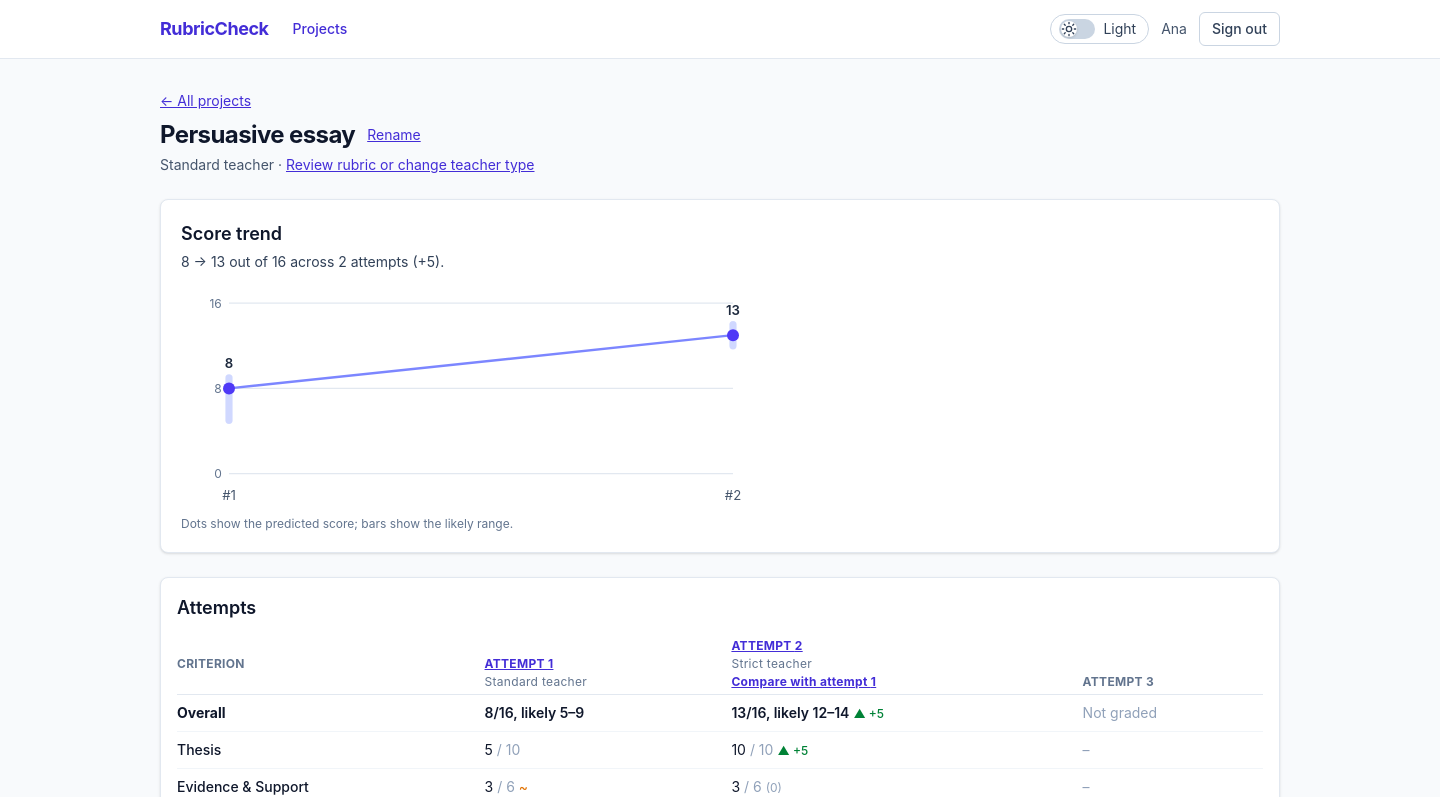
Test: a project page › does nothing when the name is unchanged, and Cancel keeps the old name
Click the button "Rename". click: (394, 135)
box: [367,125,421,145]
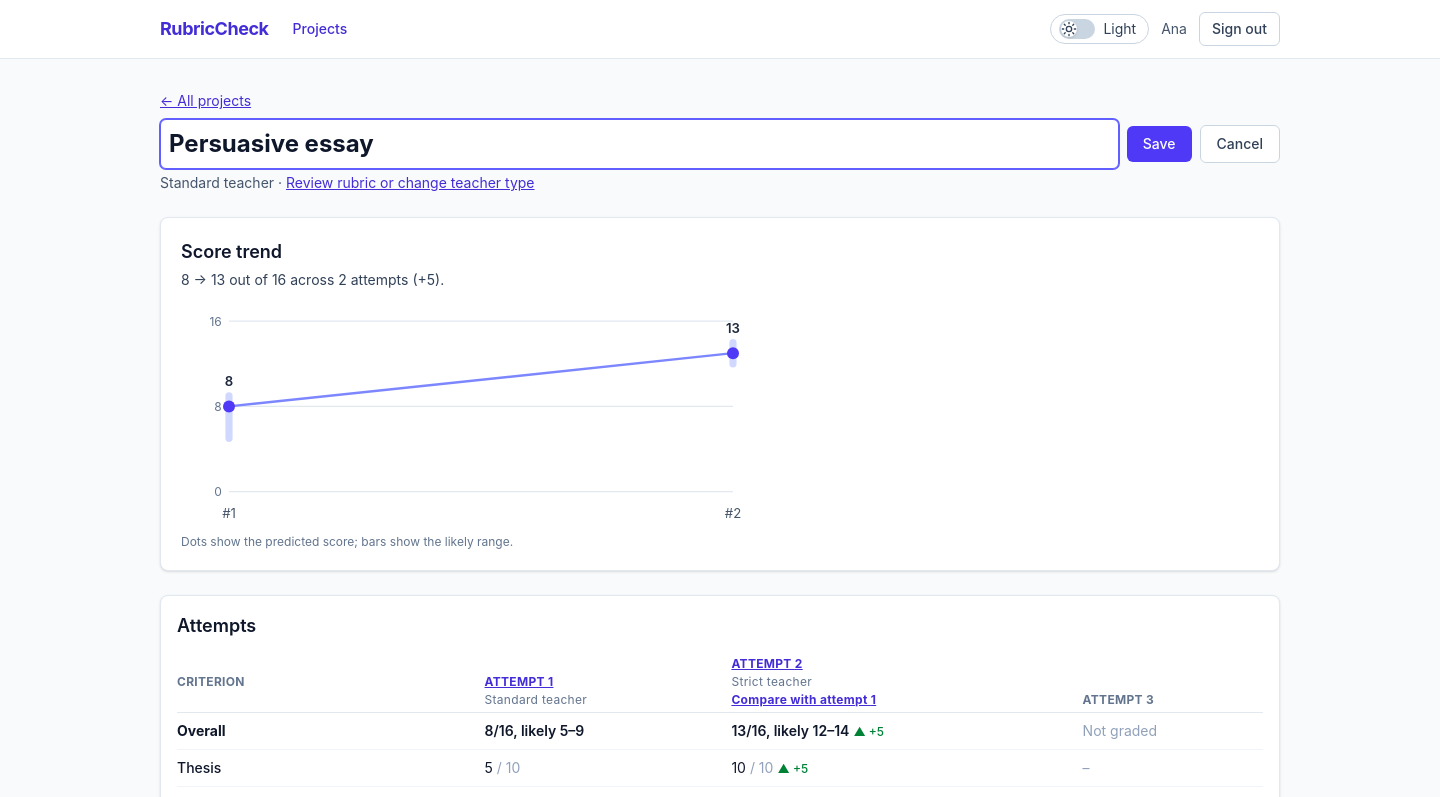
Click the button "Save". click: (1159, 144)
box: [1127,126,1192,162]
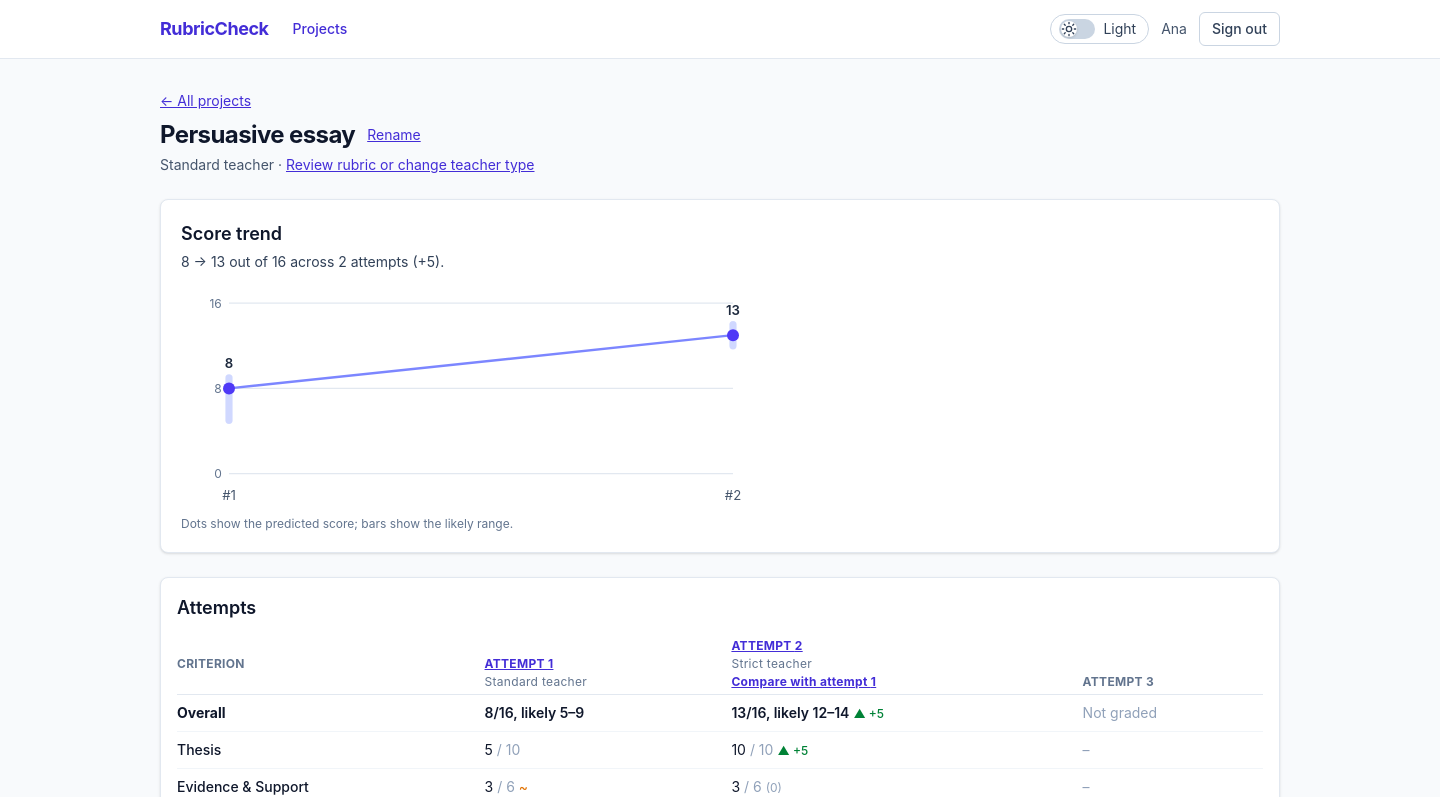
Click the button "Rename". click: (394, 135)
box: [367,125,421,145]
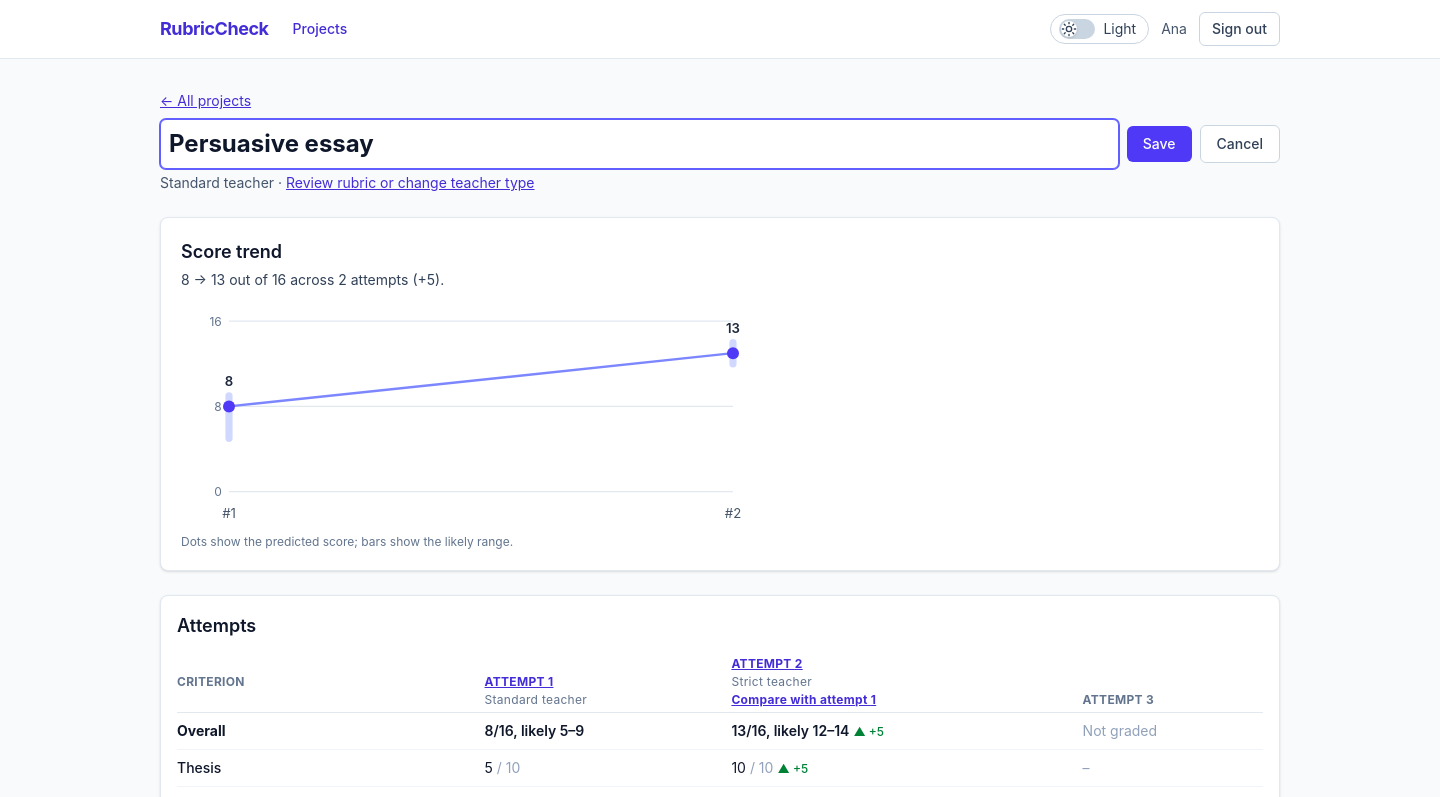
Type " changed" into the field named "Project name". click: (639, 144)
box: [160,119,1119,169]
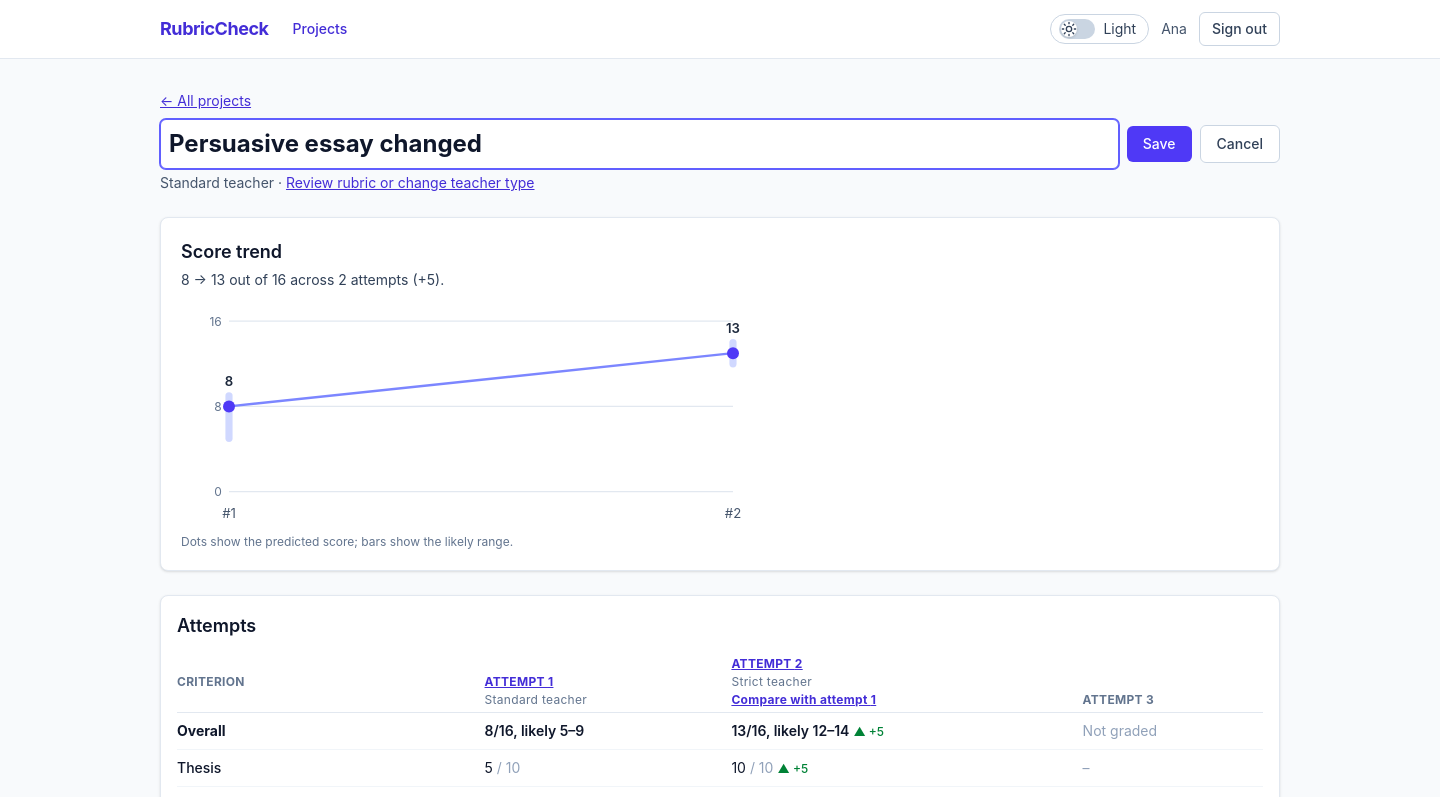
Click the button "Cancel". click: (1240, 144)
box: [1200,125,1280,163]
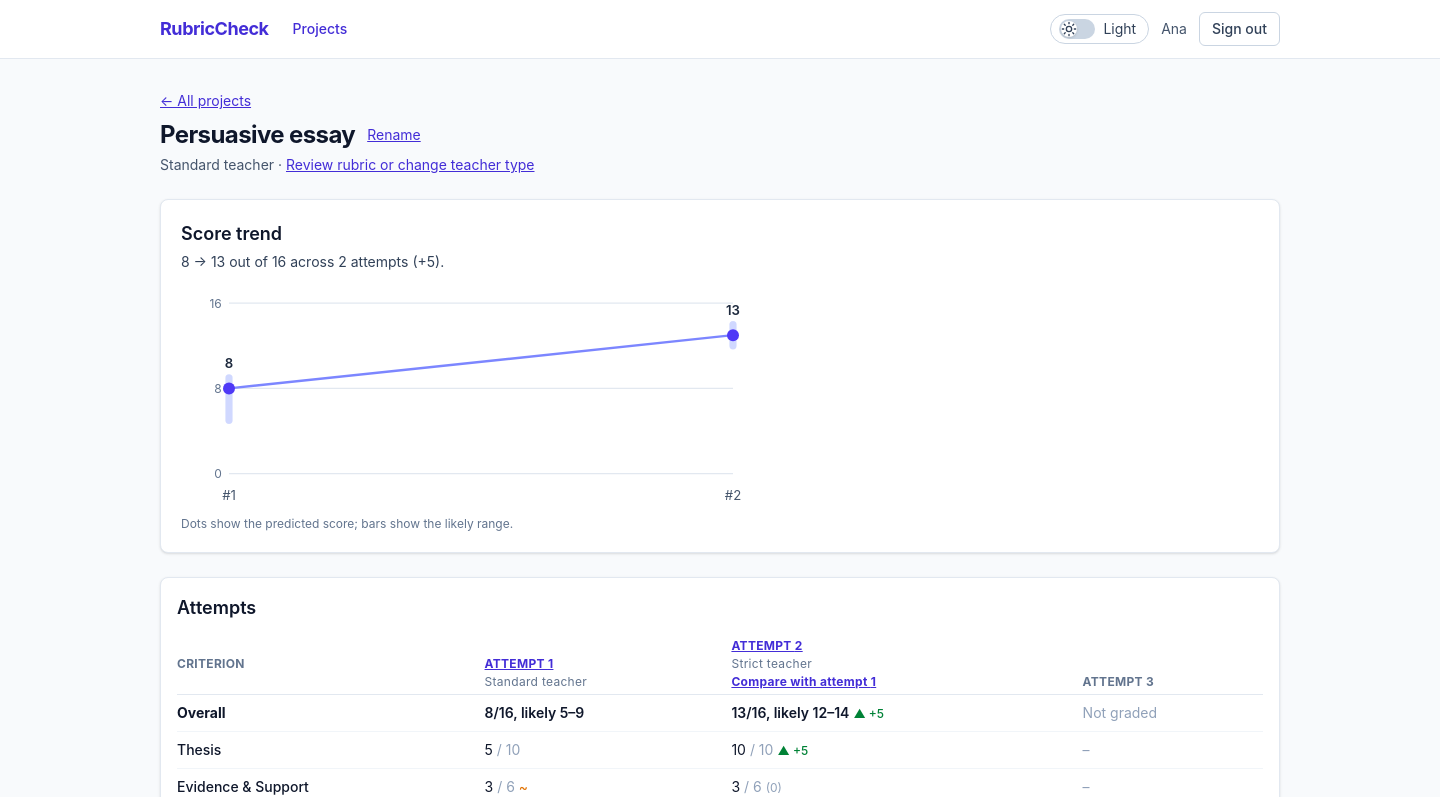
expect the heading "Persuasive essay" is shown: met, box [160,119,355,151]
